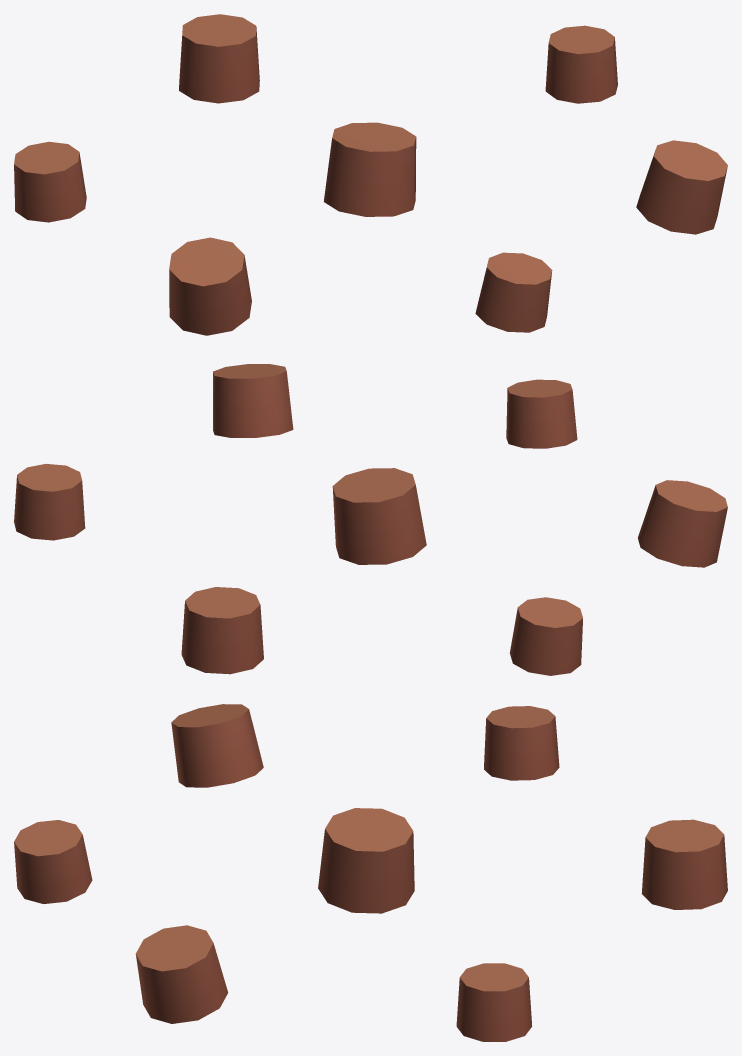
File: trees_b_cut.glb
The picture shows the model from 3 angles, top to bottom: view 1: azimuth 30°, elevation 25°; view 2: azimuth 150°, elevation 25°; view 3: azimuth 270°, elevation 25°; orthographic projection. The views are drawn at different scales.
Parts seen in each view (by area): view 1: trees_B_cut; view 2: trees_B_cut; view 3: trees_B_cut.
Part boxes in pixels (x1,y1,x2,y2): trees_B_cut: (14, 14, 727, 335); trees_B_cut: (14, 364, 727, 675); trees_B_cut: (14, 704, 727, 1041).
Size of the model in its own units: 1.4 by 0.1731 by 1.46.
1 material, 1 textured.
